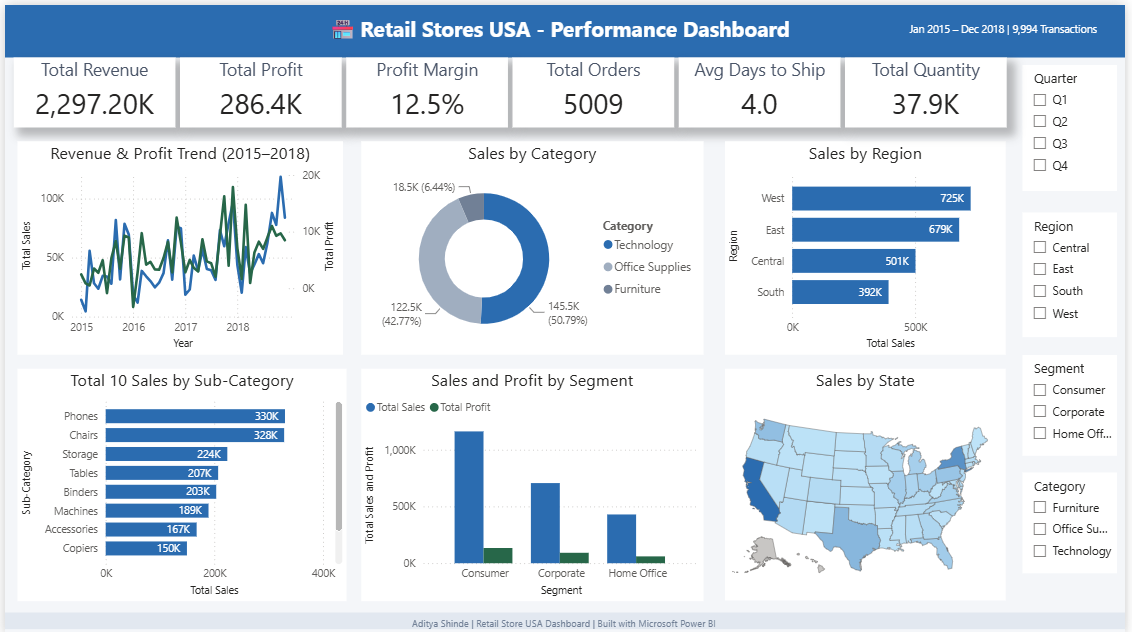

This screenshot's page, from the dashboard's own definition file:
{"tool":"powerbi","page":{"name":"Executive Overview","canvas":[1280,720],"ordinal":0},"visuals":[{"type":"shape","box":[0,0,1280,60.3],"z":0},{"type":"shape","box":[0,695,1280,25],"z":1000},{"type":"textbox","box":[364.3,6,616.5,54.3],"z":2000},{"type":"textbox","box":[1029.1,13.3,230.4,33.8],"z":3000},{"type":"textbox","box":[457.2,691.3,365.6,29],"z":4000},{"type":"card","title":"Total Revenue","fields":{"Values":["Measure.Total Sales"]},"box":[10,60,185,80],"z":5000},{"type":"card","title":"Total Profit","fields":{"Values":["Measure.Total Profit"]},"box":[200,60,185,80],"z":6000},{"type":"card","title":"Profit Margin","fields":{"Values":["Measure.Profit Margin %"]},"box":[390,60,185,80],"z":7000},{"type":"card","title":"Total Orders","fields":{"Values":["Measure.Total Orders"]},"box":[580,60,185,80],"z":8000},{"type":"card","title":"Avg Days to Ship","fields":{"Values":["Measure.Avg Days to Ship"]},"box":[770,60,185,80],"z":9000},{"type":"lineChart","title":"Revenue & Profit Trend (2015–2018)","fields":{"Y":["Measure.Total Sales"],"Y2":["Measure.Total Profit"],"Category":["Orders.Order Date Fixed.Variation.Date Hierarchy.Year","Orders.Order Date Fixed.Variation.Date Hierarchy.Month"]},"box":[13.6,156.4,371.8,243.6],"z":10000},{"type":"donutChart","title":"Sales by Category","fields":{"Category":["Orders.Category"],"Y":["Measure.Total Profit"]},"box":[407.3,156.4,390.9,243.6],"z":11000},{"type":"clusteredBarChart","title":"Sales by Region","fields":{"Y":["Measure.Total Sales"],"Category":["Orders.Region"]},"box":[822.7,156.4,320.9,243.6],"z":12000},{"type":"clusteredBarChart","title":"Total 10 Sales by Sub-Category","fields":{"Category":["Orders.Sub-Category"],"Y":["Measure.Total Sales"]},"box":[13.6,415.5,376.4,265.5],"z":13000},{"type":"clusteredColumnChart","title":" Sales and Profit by Segment","fields":{"Category":["Orders.Segment"],"Y":["Measure.Total Sales","Measure.Total Profit"]},"box":[407.3,415.5,390.9,265.5],"z":14000},{"type":"shapeMap","title":"Sales by State","fields":{"Category":["Orders.State"],"Value":["Measure.Total Sales"]},"box":[822.7,415.5,320.9,264.5],"z":15000},{"type":"slicer","fields":{"Values":["DateTable.Quarter"]},"box":[1163,68,108,144],"z":16000},{"type":"slicer","fields":{"Values":["Orders.Region"]},"box":[1163,237,108,142],"z":17000},{"type":"slicer","fields":{"Values":["Orders.Category"]},"box":[1163,534,108,115],"z":18000},{"type":"slicer","fields":{"Values":["Orders.Segment"]},"box":[1163,400,108,115],"z":19000},{"type":"card","title":"Total Quantity","fields":{"Values":["Measure.Total Quantity"]},"box":[960,60,184.5,80],"z":20000}]}

Visuals, with their boxes in screenshot pixels (x1, y1, x2, y2), scaled from the page's 1280x720 canvas onto the 1132x632 screenshot:
shape: crop(0, 0, 1131, 53)
shape: crop(0, 610, 1131, 631)
textbox: crop(322, 5, 867, 53)
textbox: crop(910, 12, 1114, 41)
textbox: crop(404, 607, 728, 631)
"Total Revenue" card: crop(9, 53, 172, 123)
"Total Profit" card: crop(177, 53, 340, 123)
"Profit Margin" card: crop(345, 53, 509, 123)
"Total Orders" card: crop(513, 53, 677, 123)
"Avg Days to Ship" card: crop(681, 53, 845, 123)
"Revenue & Profit Trend (2015–2018)" lineChart: crop(12, 137, 341, 351)
"Sales by Category" donutChart: crop(360, 137, 706, 351)
"Sales by Region" clusteredBarChart: crop(728, 137, 1011, 351)
"Total 10 Sales by Sub-Category" clusteredBarChart: crop(12, 365, 345, 598)
" Sales and Profit by Segment" clusteredColumnChart: crop(360, 365, 706, 598)
"Sales by State" shapeMap: crop(728, 365, 1011, 597)
slicer - DateTable.Quarter: crop(1029, 60, 1124, 186)
slicer - Orders.Region: crop(1029, 208, 1124, 333)
slicer - Orders.Category: crop(1029, 469, 1124, 570)
slicer - Orders.Segment: crop(1029, 351, 1124, 452)
"Total Quantity" card: crop(849, 53, 1012, 123)
